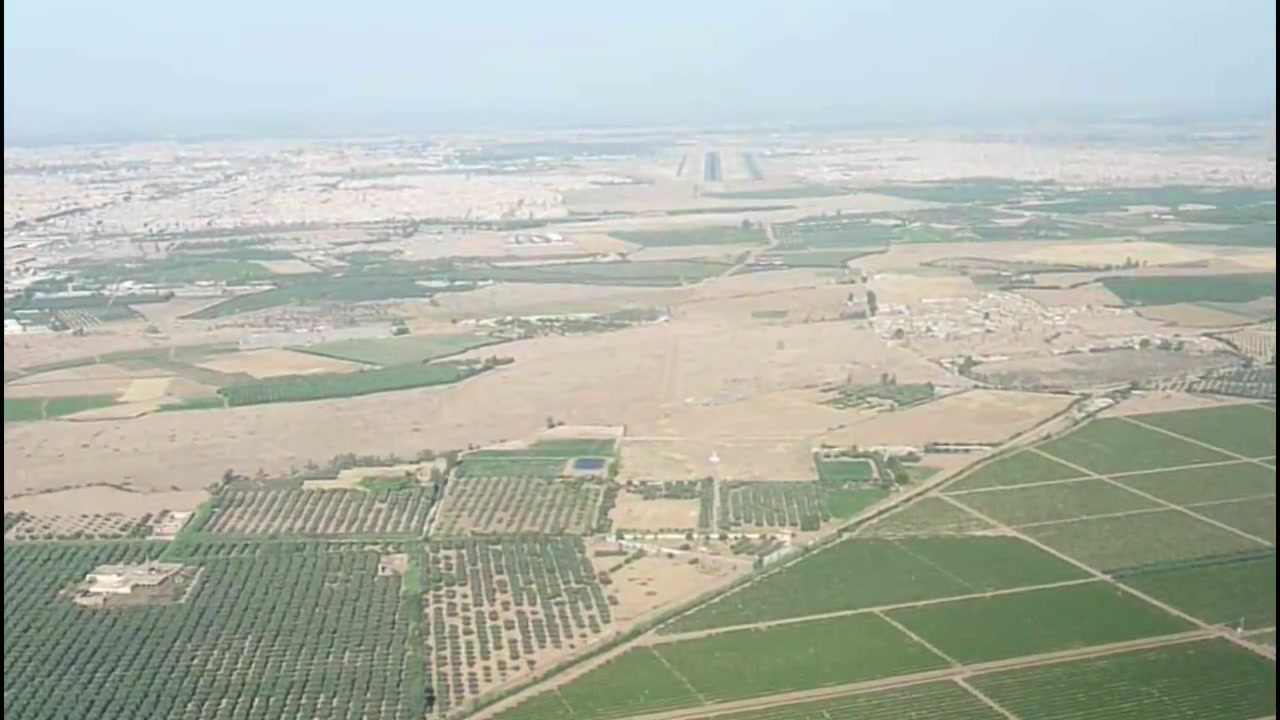runway: (704, 150, 723, 183)
